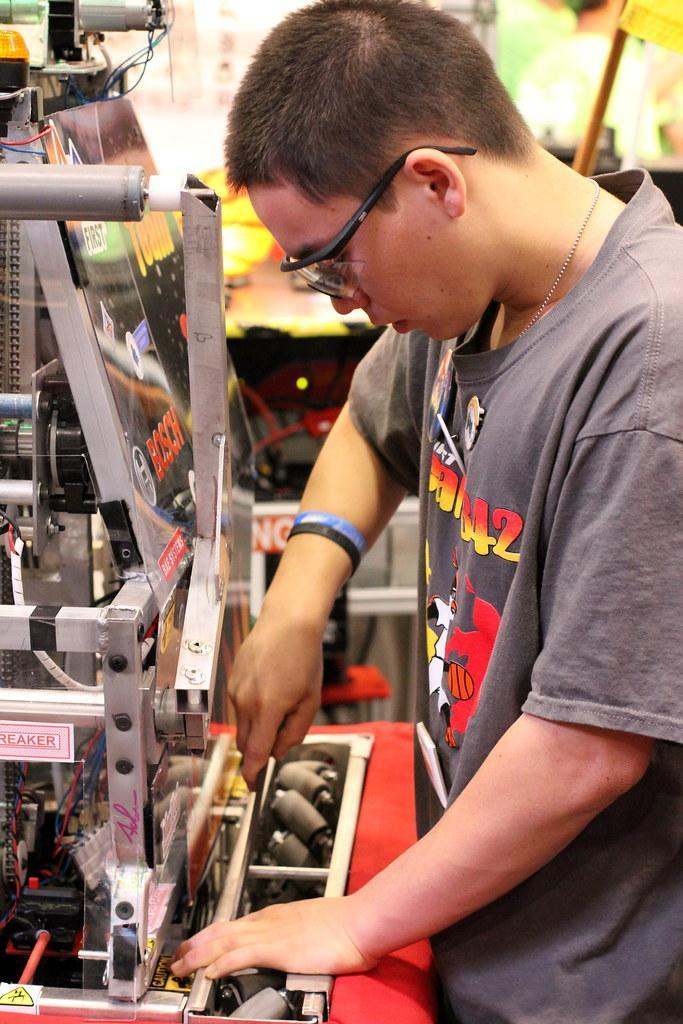robot: (0, 0, 458, 1024)
